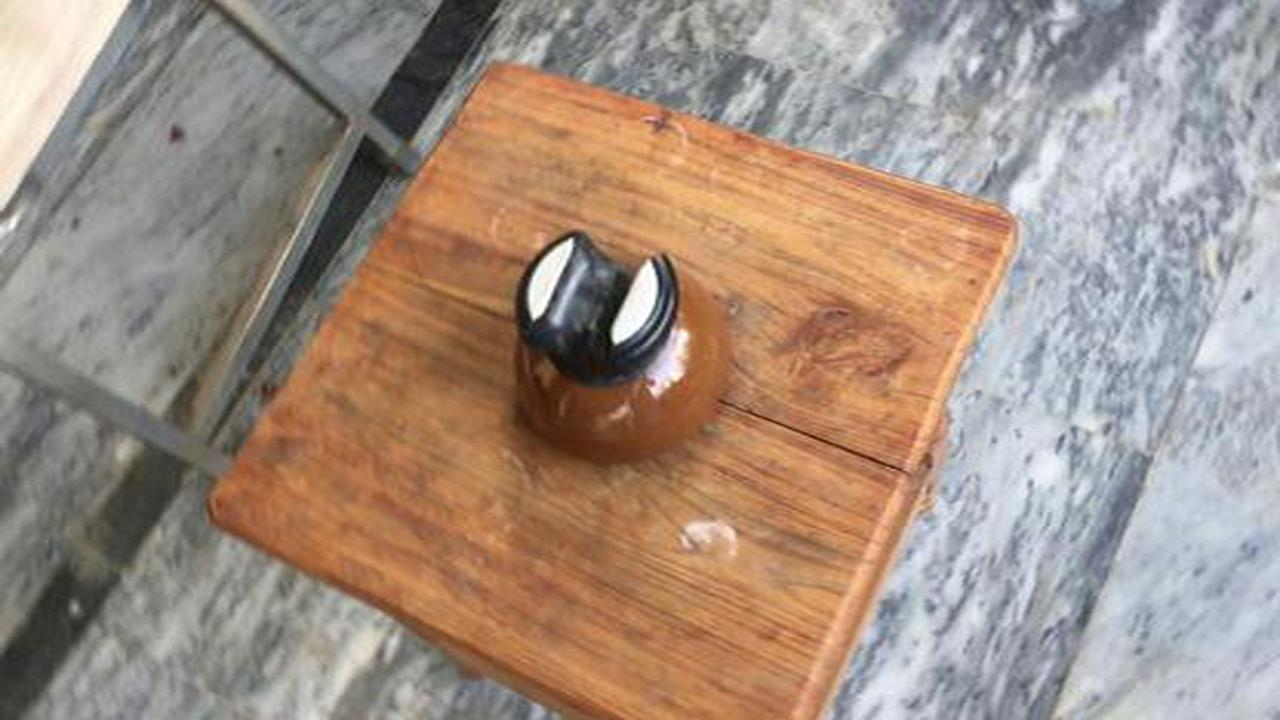insulator_pin: (484, 219, 748, 476)
